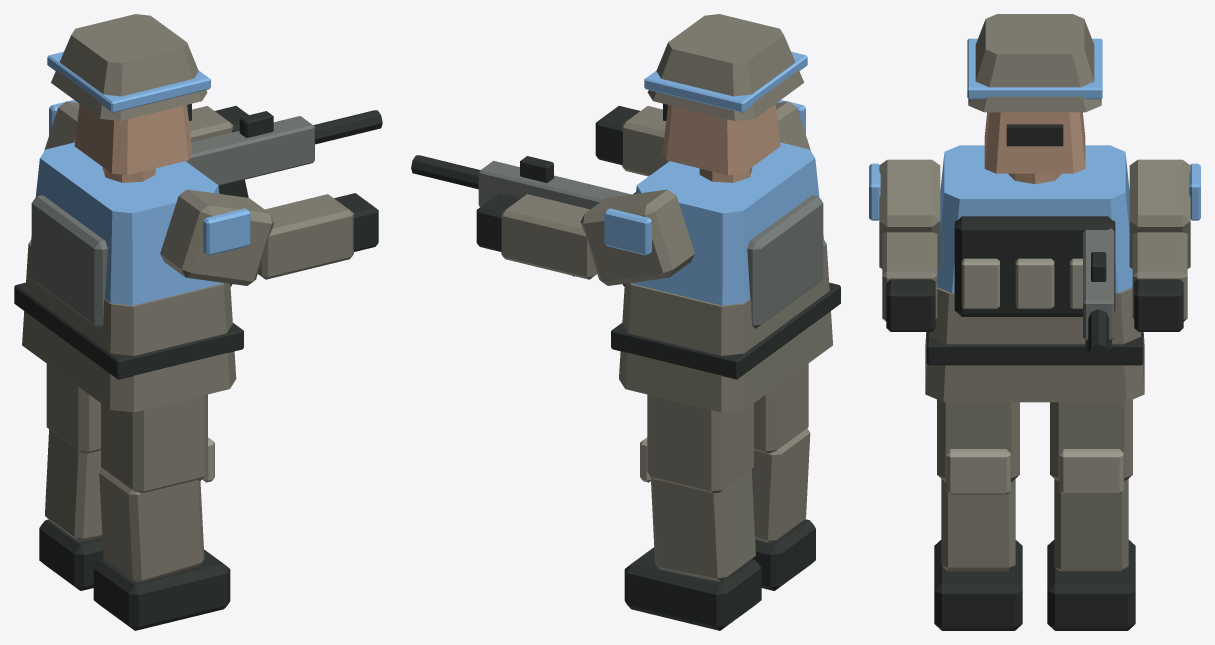
Rendered from conscript.glb.
3 renders of one model, left to right at view 1: azimuth 30°, elevation 25°; view 2: azimuth 150°, elevation 25°; view 3: azimuth 270°, elevation 25°, orthographic. The views are drawn at different scales.
Visible parts, largest first — view 1: conscript; view 2: conscript; view 3: conscript.
Part boxes in pixels (x1,y1,x2,y2): conscript: (14, 14, 382, 630); conscript: (411, 14, 840, 630); conscript: (869, 14, 1200, 630).
Size of the model in its own units: 0.9165 by 1.39 by 0.734.
